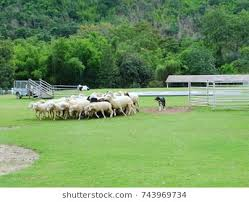sheep: (103, 93, 135, 117), (84, 100, 113, 119), (66, 102, 86, 123), (46, 100, 68, 117), (31, 101, 50, 120), (123, 91, 142, 106)
